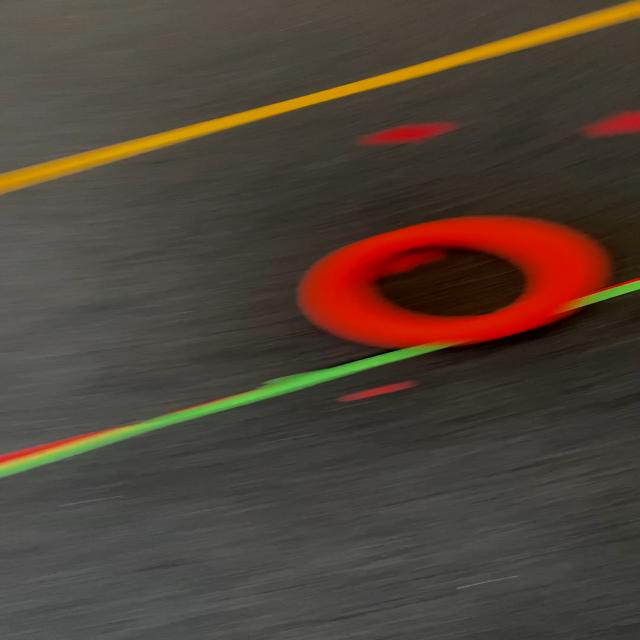notes: (294, 212, 615, 349)
